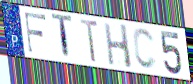5: (158, 29, 184, 76)
C: (131, 27, 159, 72)
F: (24, 11, 48, 55)
H: (103, 22, 134, 71)
T: (50, 12, 74, 62), (79, 18, 100, 65)
